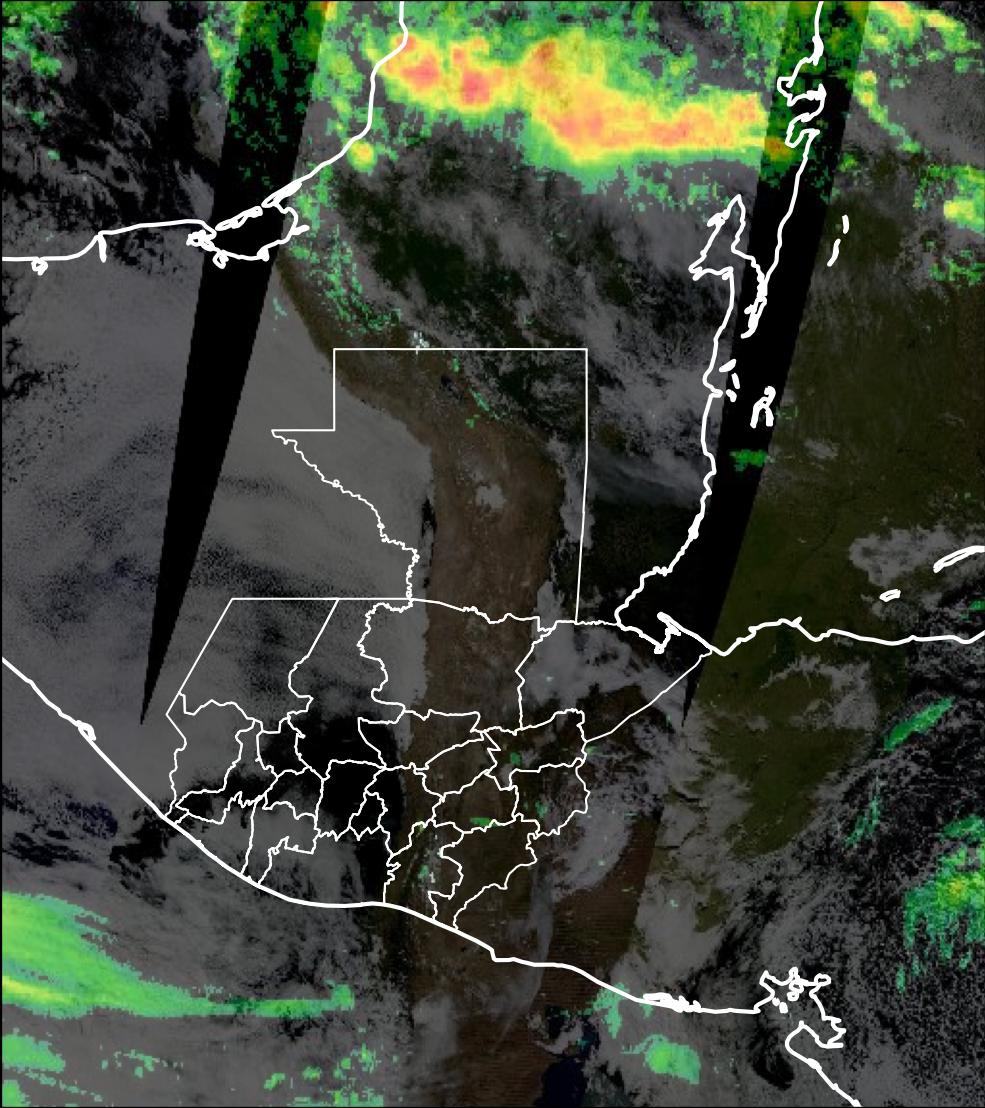precipitacion: (524, 40, 757, 166)
